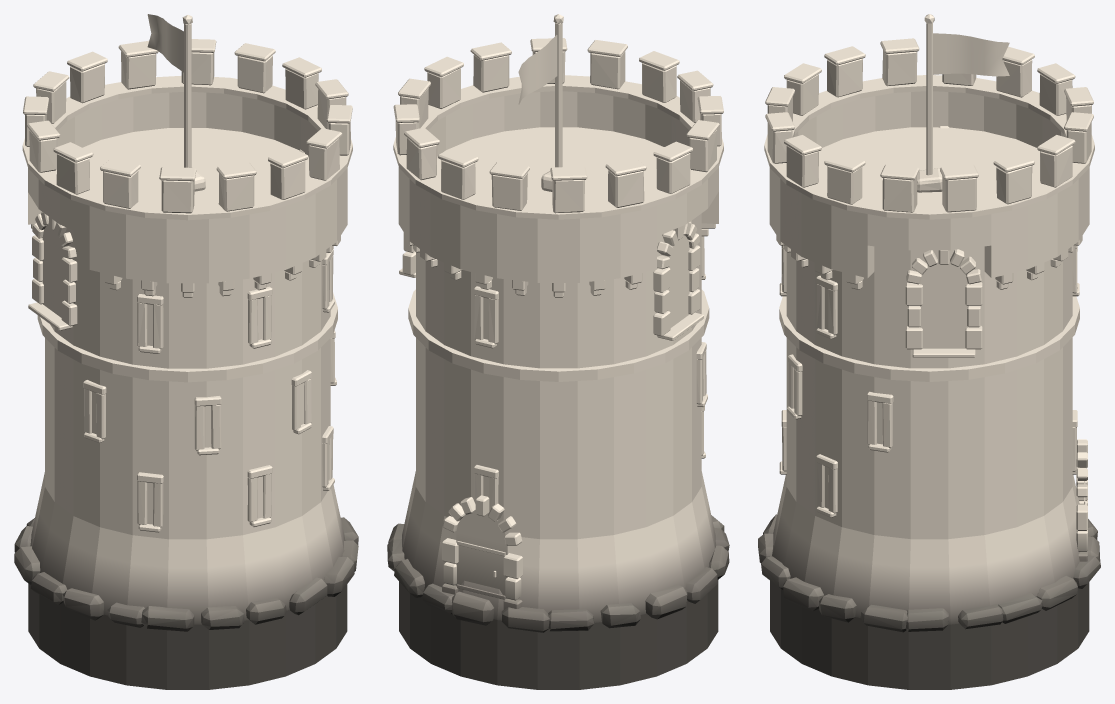
The model's file is SM_VK_TownWall_Tower_Round.fbx.
3 renders of one model, left to right at view 1: azimuth 30°, elevation 25°; view 2: azimuth 150°, elevation 25°; view 3: azimuth 270°, elevation 25°, orthographic.
Parts seen in each view (by area): view 1: SM_VK_TownWall_Tower_Round.001; view 2: SM_VK_TownWall_Tower_Round.001; view 3: SM_VK_TownWall_Tower_Round.001.
Part boxes in pixels (<box>): SM_VK_TownWall_Tower_Round.001: <box>14,14,358,689</box>; SM_VK_TownWall_Tower_Round.001: <box>387,14,729,689</box>; SM_VK_TownWall_Tower_Round.001: <box>758,14,1100,689</box>.
Bounding box in the file's own units: 7.16 × 13.97 × 7.14.
